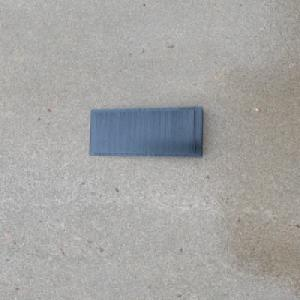PlasticPart: (88, 105, 205, 157)
